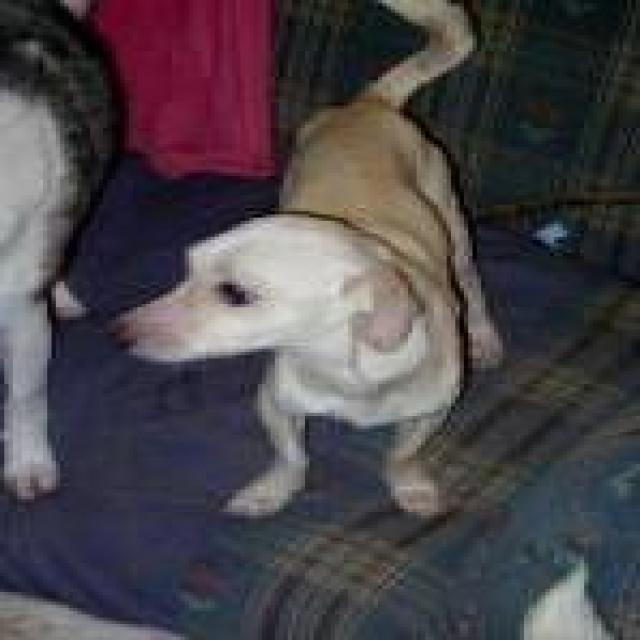Dog: (103, 199, 420, 386)
